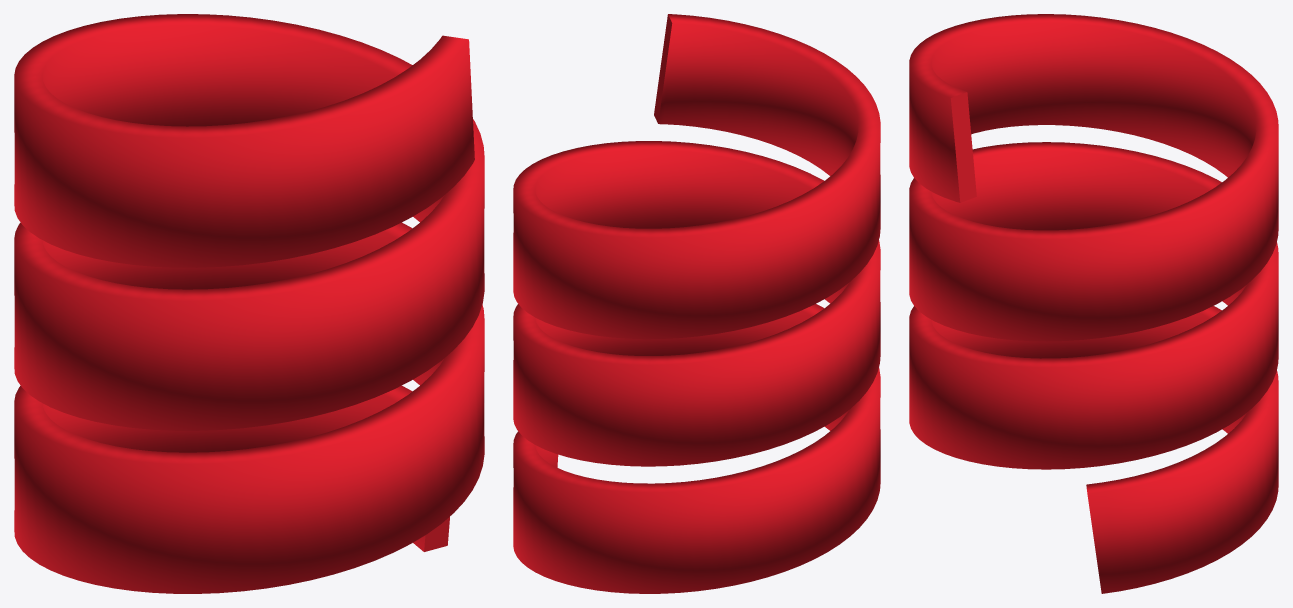
File: scala.glb
3 renders of one model, left to right at view 1: azimuth 30°, elevation 25°; view 2: azimuth 150°, elevation 25°; view 3: azimuth 270°, elevation 25°, orthographic. The views are drawn at different scales.
Parts seen in each view (by area): view 1: Spiral.002; view 2: Spiral.002; view 3: Spiral.002.
Part boxes in pixels (<box>): Spiral.002: <box>14,14,484,593</box>; Spiral.002: <box>513,14,880,593</box>; Spiral.002: <box>909,14,1278,593</box>.
Bounding box in the file's own units: 0.0111 × 0.0154 × 0.011.
